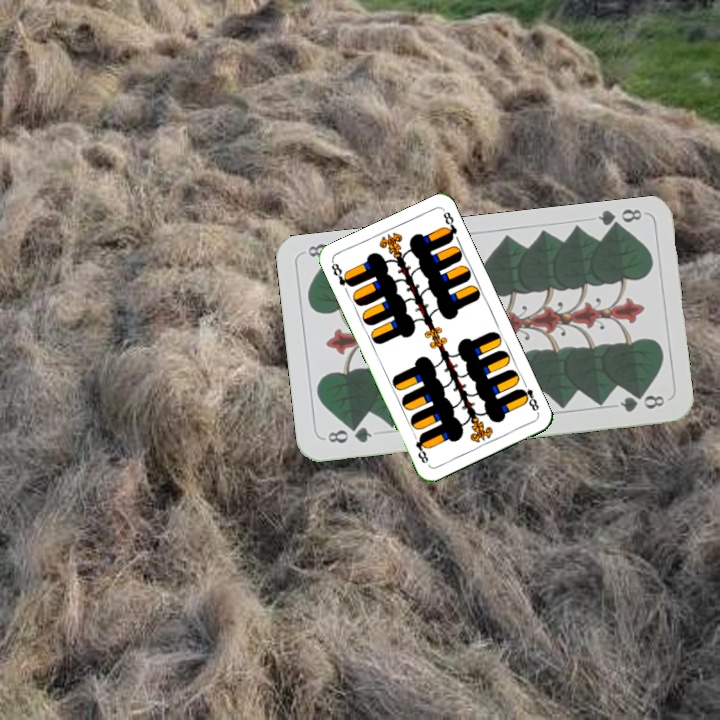E8: (515, 377, 541, 414), (327, 258, 355, 290)
G8: (594, 205, 644, 235), (323, 422, 375, 446)
